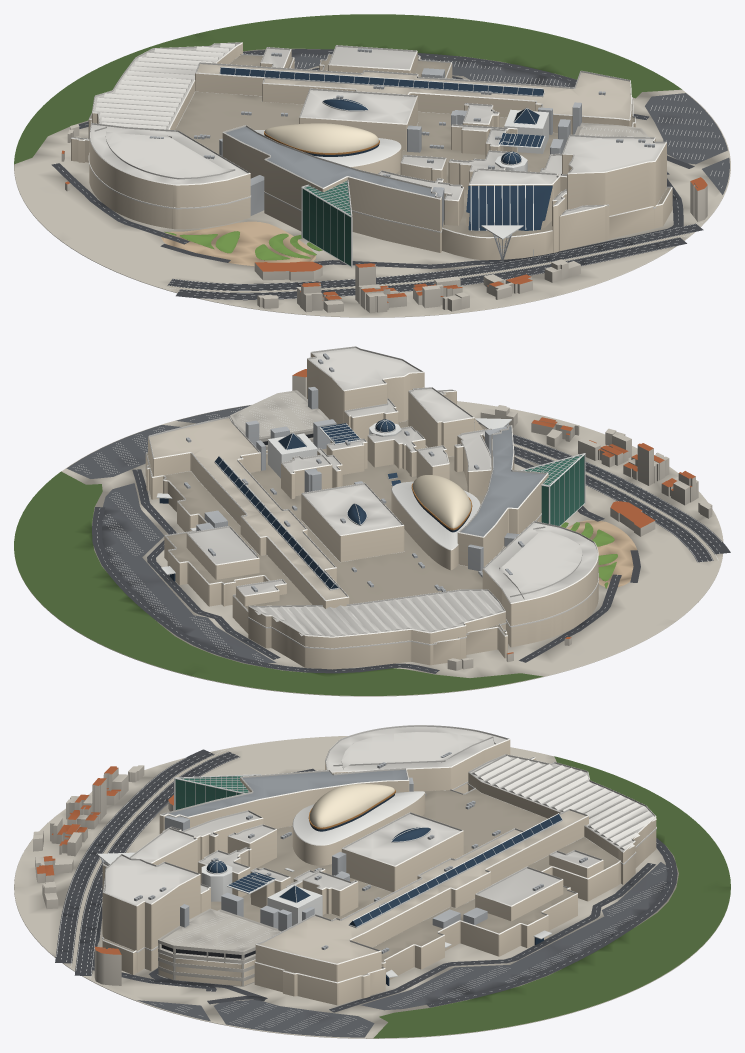
File: iguatemi-shopping.glb
3 renders of one model, top to bottom at view 1: azimuth 30°, elevation 25°; view 2: azimuth 150°, elevation 25°; view 3: azimuth 270°, elevation 25°, orthographic.
Visible parts, largest first — view 1: Chao_Calcada, Chao_Mata_Coco, Ruas_Asfalto, Ala_Curva_Fachadas, Embasamento_Telhado, Rotunda_Oeste_Fachadas, Estacionamento_Piso, Vizinhos_Paredes, Bloco_Norte_Sheds, Miolo_Fachadas, Rotunda_Oeste_Telhado, Espinha_Telhado (+39 smaller); view 2: Chao_Mata_Coco, Chao_Calcada, Embasamento_Telhado, Ruas_Asfalto, Estacionamento_Piso, Miolo_Fachadas, Bloco_Norte_Fachadas, Espinha_Telhado, Bloco_Norte_Sheds, Rotunda_Oeste_Telhado, Embasamento_Fachadas, Vizinhos_Paredes (+37 smaller); view 3: Chao_Mata_Coco, Chao_Calcada, Ruas_Asfalto, Estacionamento_Piso, Embasamento_Fachadas, Embasamento_Telhado, Espinha_Fachadas, Espinha_Telhado, Miolo_Fachadas, Bloco_Norte_Sheds, Rotunda_Oeste_Telhado, Bloco_Cinema_Fachadas (+37 smaller).
Boxes of the visible parts, left/top/right/bottom form: Chao_Calcada: left=14, top=48, right=730, bottom=317; Chao_Mata_Coco: left=14, top=14, right=681, bottom=164; Ruas_Asfalto: left=51, top=49, right=703, bottom=300; Ala_Curva_Fachadas: left=222, top=133, right=441, bottom=252; Embasamento_Telhado: left=80, top=55, right=670, bottom=236; Rotunda_Oeste_Fachadas: left=89, top=139, right=250, bottom=229; Estacionamento_Piso: left=258, top=53, right=729, bottom=194; Vizinhos_Paredes: left=61, top=126, right=707, bottom=313; Bloco_Norte_Sheds: left=95, top=43, right=235, bottom=129; Miolo_Fachadas: left=260, top=50, right=609, bottom=252; Rotunda_Oeste_Telhado: left=90, top=124, right=247, bottom=184; Espinha_Telhado: left=197, top=64, right=630, bottom=119; Chao_Mata_Coco: left=14, top=471, right=543, bottom=695; Chao_Calcada: left=14, top=401, right=723, bottom=696; Embasamento_Telhado: left=147, top=419, right=505, bottom=635; Ruas_Asfalto: left=92, top=434, right=730, bottom=673; Estacionamento_Piso: left=66, top=405, right=276, bottom=662; Miolo_Fachadas: left=186, top=391, right=491, bottom=606; Bloco_Norte_Fachadas: left=248, top=606, right=505, bottom=669; Espinha_Telhado: left=149, top=418, right=346, bottom=599; Bloco_Norte_Sheds: left=254, top=590, right=503, bottom=636; Rotunda_Oeste_Telhado: left=484, top=522, right=597, bottom=602; Embasamento_Fachadas: left=145, top=450, right=507, bottom=664; Vizinhos_Paredes: left=292, top=375, right=712, bottom=670; Chao_Mata_Coco: left=373, top=756, right=730, bottom=1038; Chao_Calcada: left=14, top=736, right=729, bottom=1038; Ruas_Asfalto: left=55, top=749, right=677, bottom=1012; Estacionamento_Piso: left=137, top=862, right=667, bottom=1037; Embasamento_Fachadas: left=102, top=758, right=620, bottom=1005; Embasamento_Telhado: left=103, top=789, right=618, bottom=975; Espinha_Fachadas: left=255, top=816, right=588, bottom=982; Espinha_Telhado: left=259, top=810, right=585, bottom=963; Miolo_Fachadas: left=102, top=818, right=603, bottom=934; Bloco_Norte_Sheds: left=471, top=755, right=656, bottom=849; Rotunda_Oeste_Telhado: left=326, top=726, right=506, bottom=771; Bloco_Cinema_Fachadas: left=102, top=875, right=200, bottom=972.
Size of the model in its own units: 66.6 by 7.01 by 66.6.
